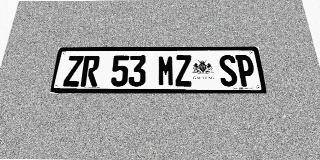3: (128, 55, 146, 86)
5: (111, 55, 129, 86)
M: (158, 55, 175, 86)
P: (235, 55, 257, 86)
R: (80, 55, 100, 86)
S: (218, 55, 238, 86)
Z: (63, 56, 84, 86), (175, 55, 193, 86)
